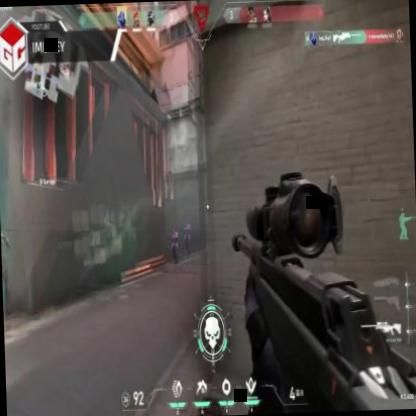enemy: (172, 226, 180, 262)
enemy_head: (173, 227, 176, 234)
